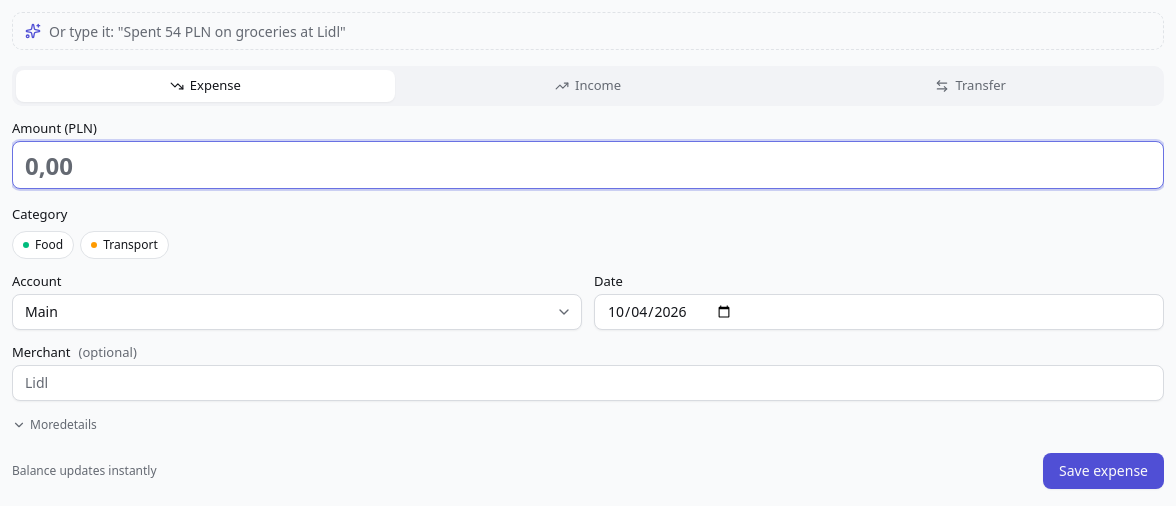
Test: TransactionForm › fills the form from natural language
In the field named "Describe the transaction in words": point(600, 31) [49,13,1151,49], type "Spent 54 PLN on groceries at Lidl"
Then press Enter
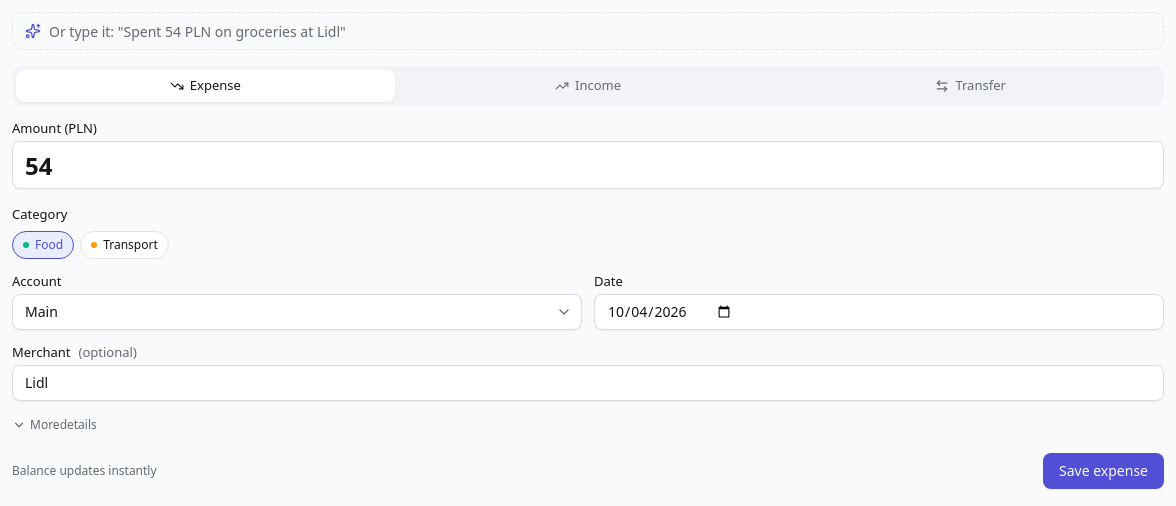
Expected: the field labelled "Amount (PLN)" holds "54", [12,141,1164,189]
Expected: the field labelled "Merchant (optional)" holds "Lidl", [12,364,1164,400]
